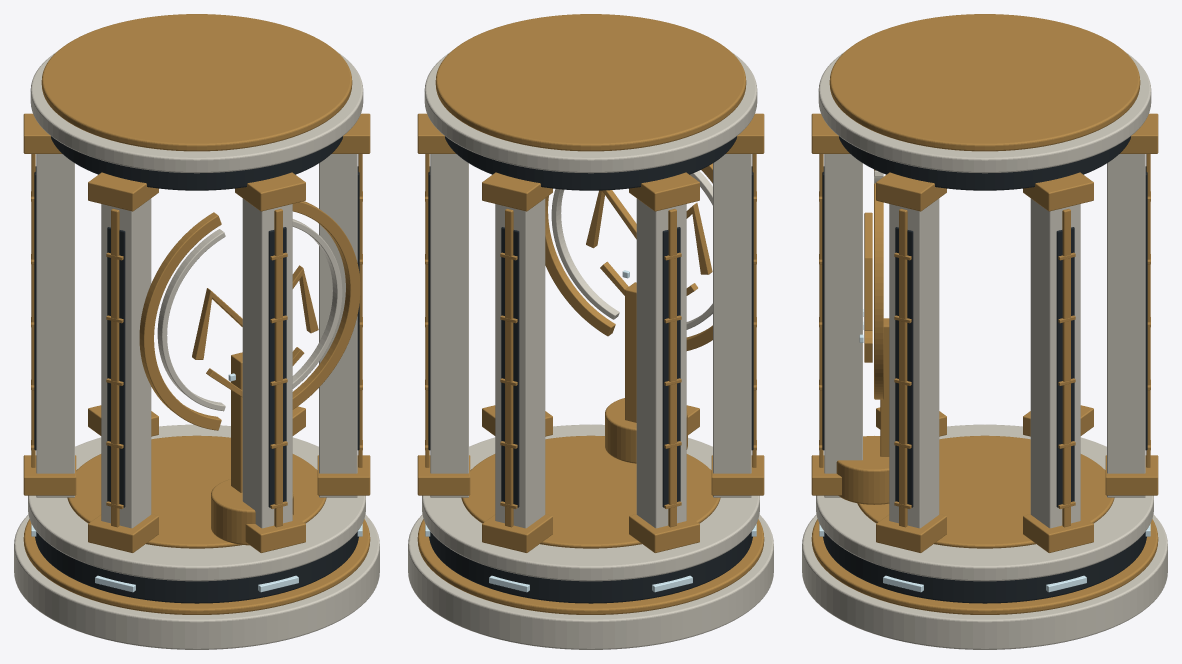
Rendered from SM_Aurelion_KIT_Z10CrownmarkCore.fbx.
3 renders of one model, left to right at view 1: azimuth 30°, elevation 25°; view 2: azimuth 150°, elevation 25°; view 3: azimuth 270°, elevation 25°, orthographic.
Visible parts, largest first — view 1: SM_Aurelion_KIT_Z10CrownmarkCore; view 2: SM_Aurelion_KIT_Z10CrownmarkCore; view 3: SM_Aurelion_KIT_Z10CrownmarkCore.
Boxes of the visible parts, x1,y1,x2,y2 form: SM_Aurelion_KIT_Z10CrownmarkCore: [14, 14, 379, 649]; SM_Aurelion_KIT_Z10CrownmarkCore: [408, 14, 773, 649]; SM_Aurelion_KIT_Z10CrownmarkCore: [802, 14, 1167, 649].
Size of the model in its own units: 132 by 132 by 197.
